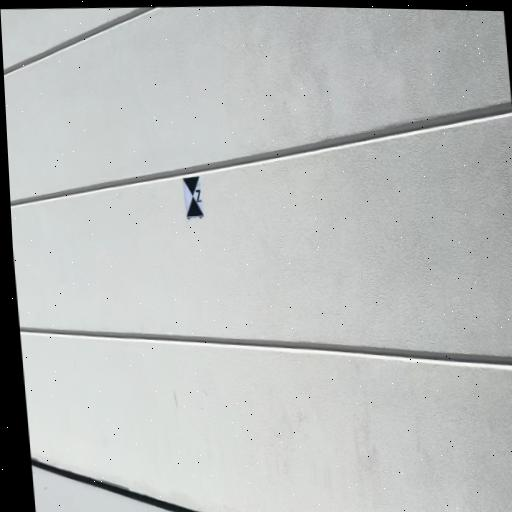target7: (182, 174, 204, 218)
